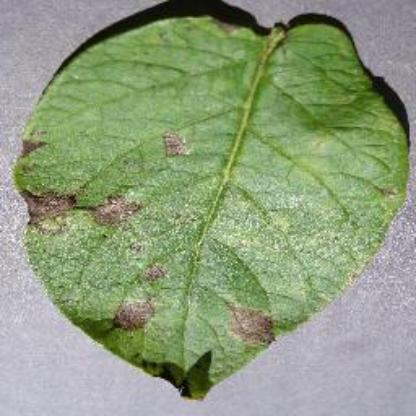Early-Blight: (13, 6, 408, 400)
